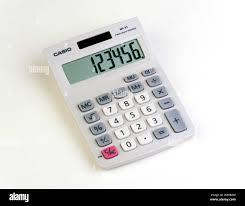Calculator: (36, 13, 200, 179)
